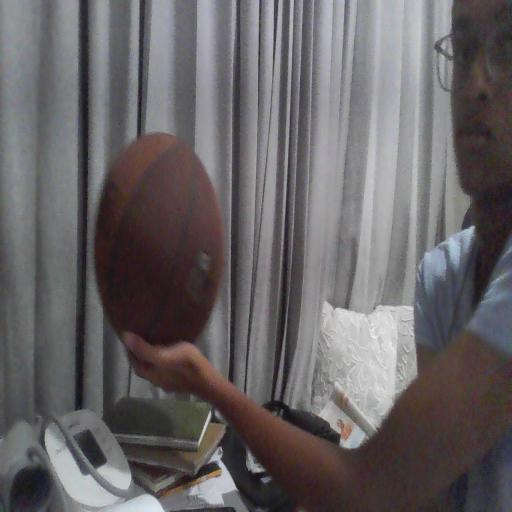basketball: (94, 133, 223, 344)
